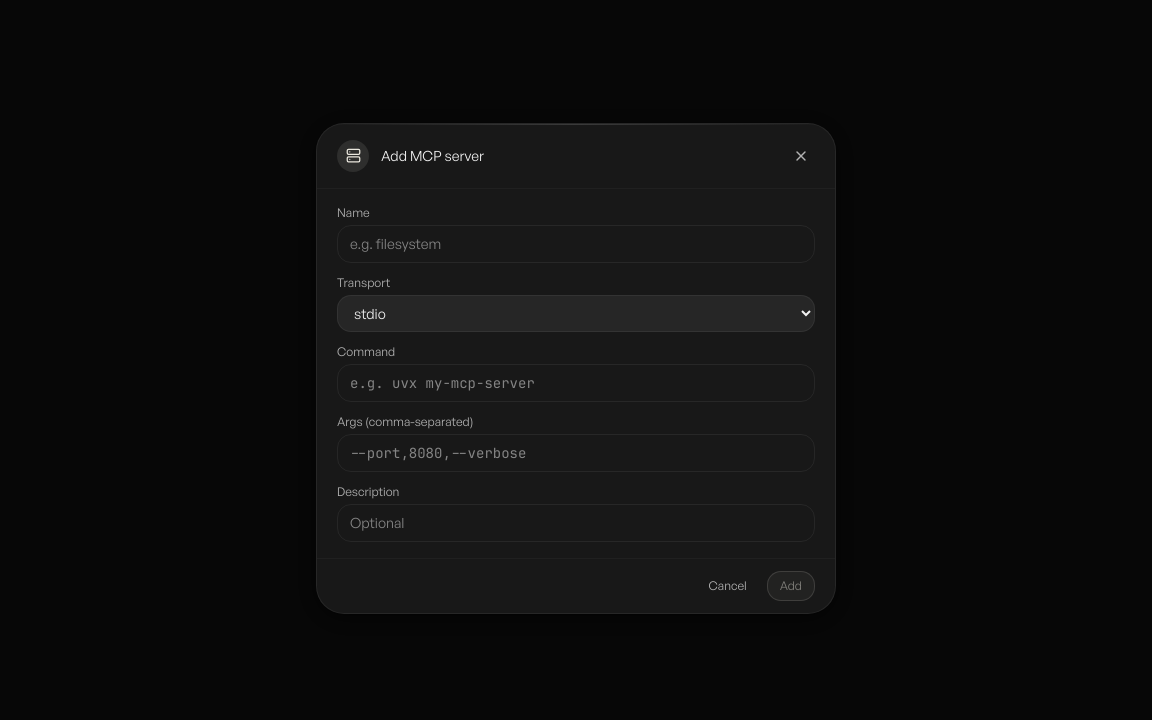
Test: MCPAddServerModal › invalid name disables submit and shows hint
Type "bad/name" into the field labelled "Name" at (576, 244), box [337,224,815,262]
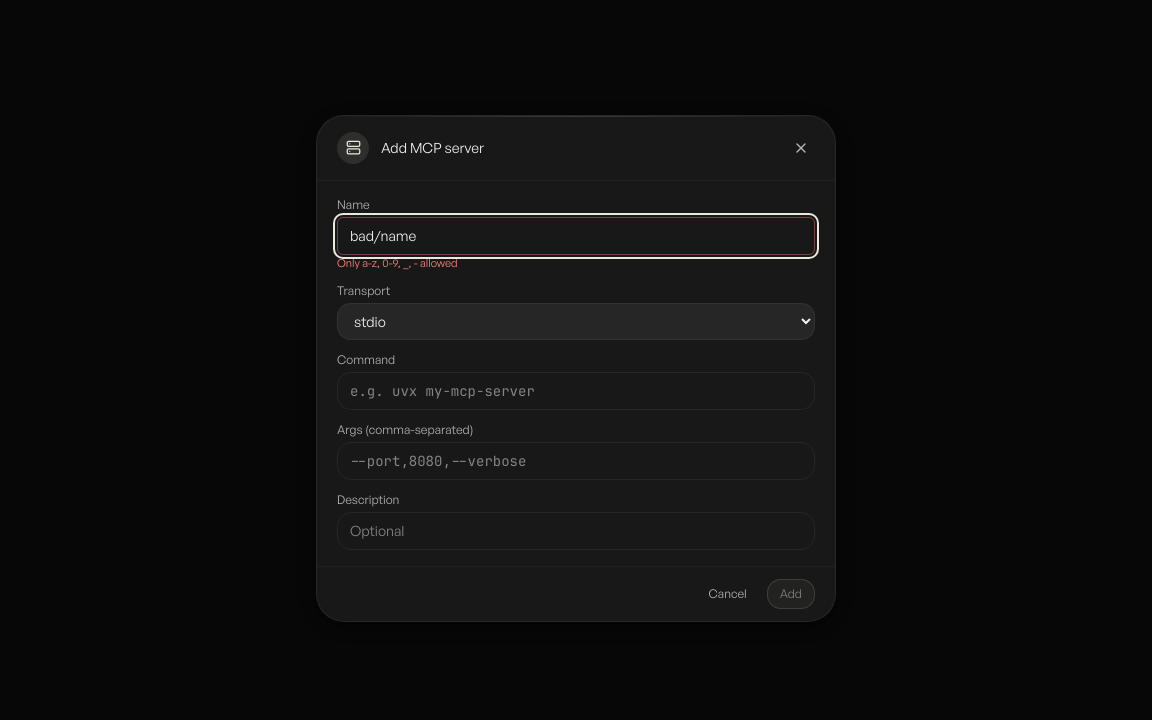
Expected: the button "Add" is disabled, [767,578,815,608]
Expected: the text "Only a-z, 0-9, _, - allowed" is shown, [337,256,458,270]
